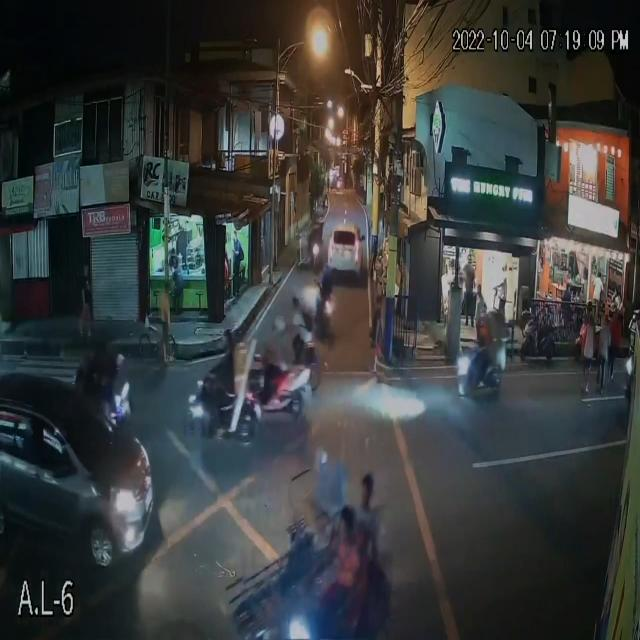Not-Wearing-Helmet: (332, 501, 358, 544), (352, 465, 377, 507)
